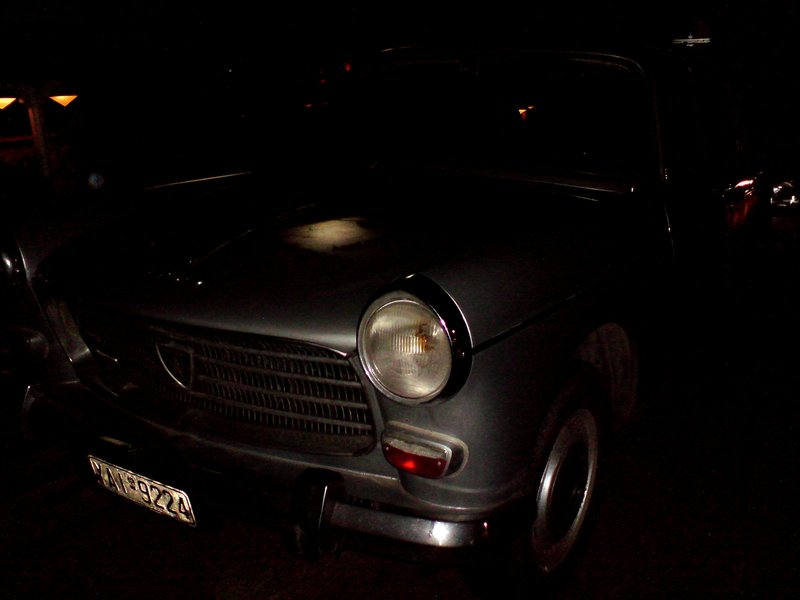car: (2, 23, 789, 575)
